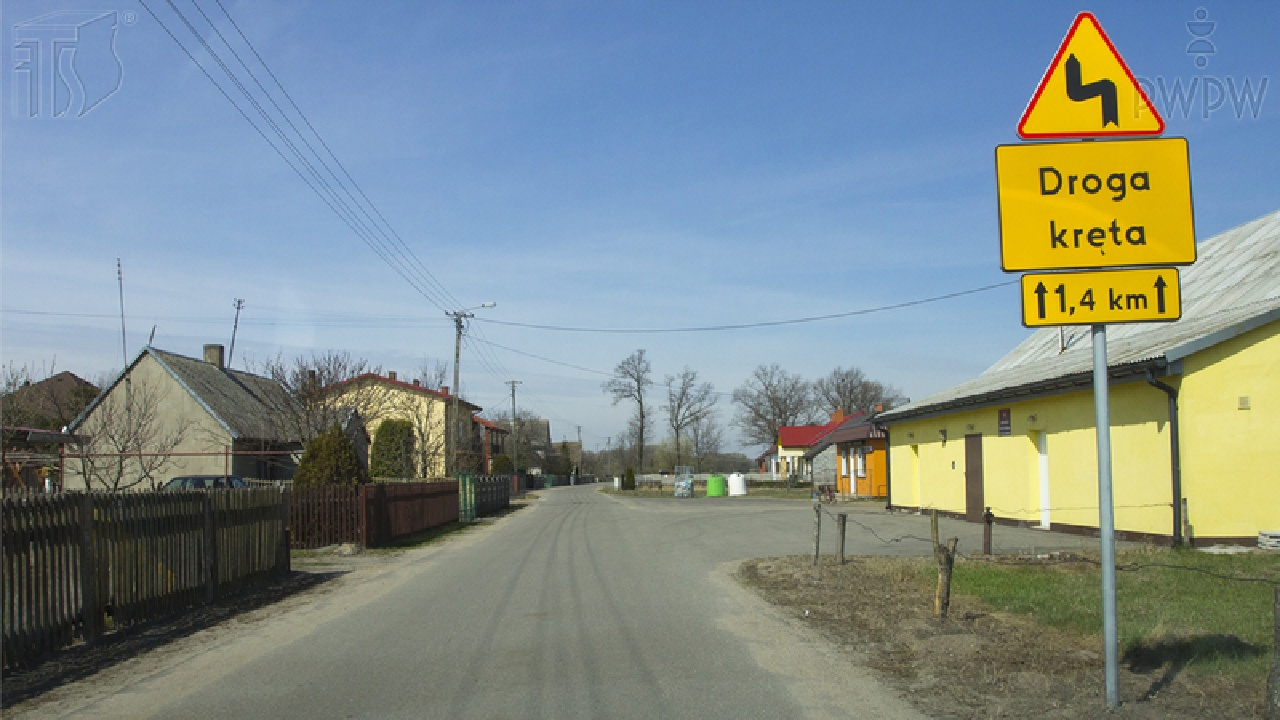D1: (1016, 11, 1166, 134)
